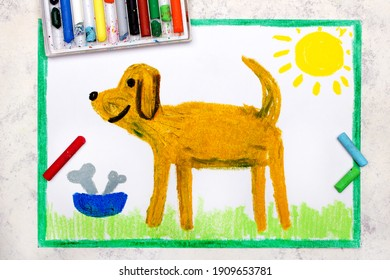dog: (85, 53, 301, 234)
sun: (270, 25, 353, 98)
